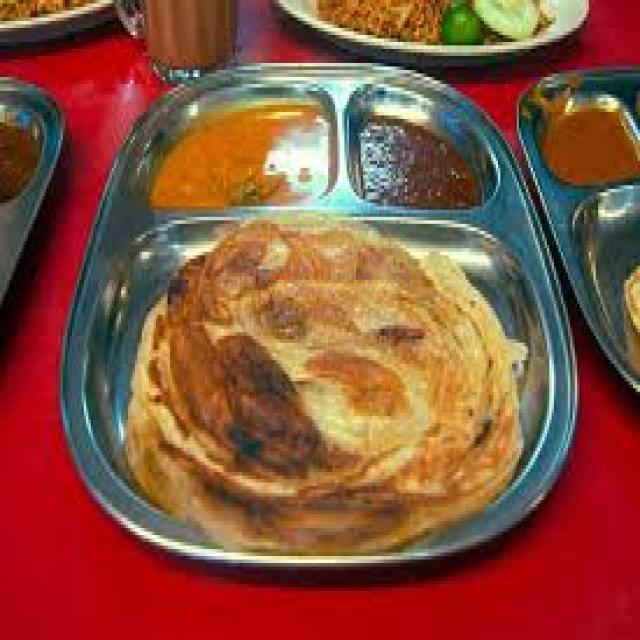BAJI: (144, 99, 331, 208), (358, 109, 483, 205)
ROTI: (120, 219, 524, 551)
